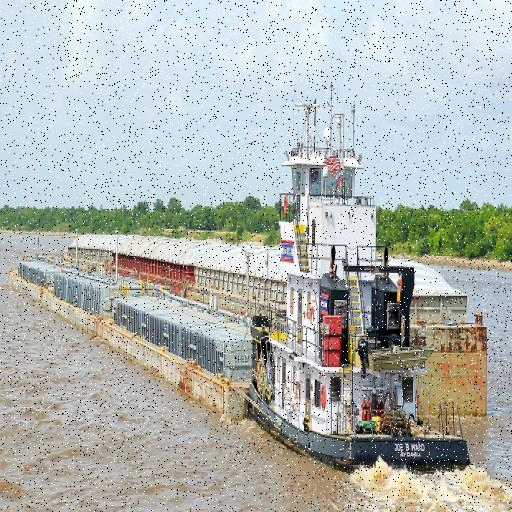tugboat: (244, 79, 474, 489)
